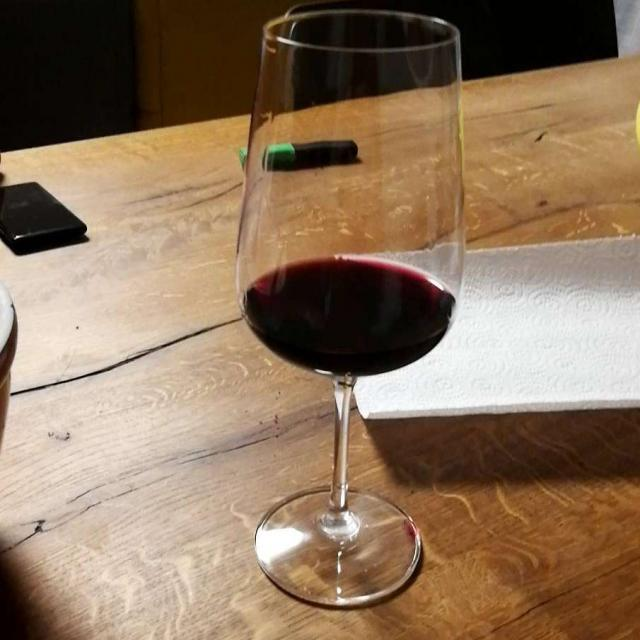wine: (244, 257, 451, 378)
